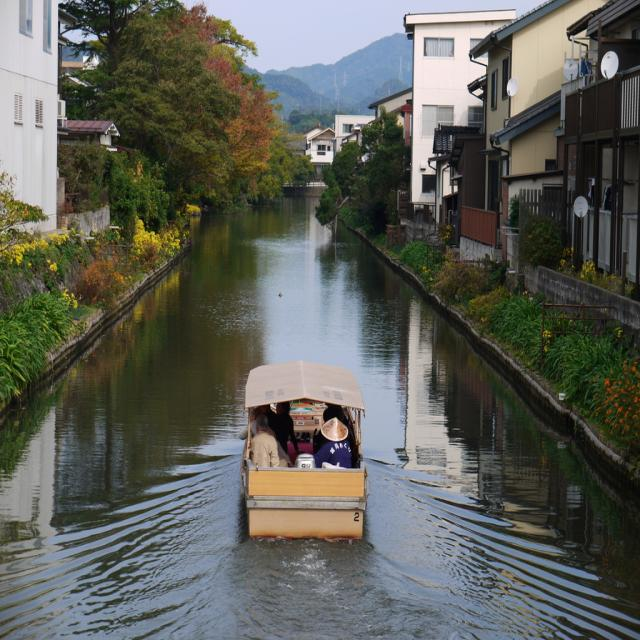Boat: (245, 358, 368, 544)
